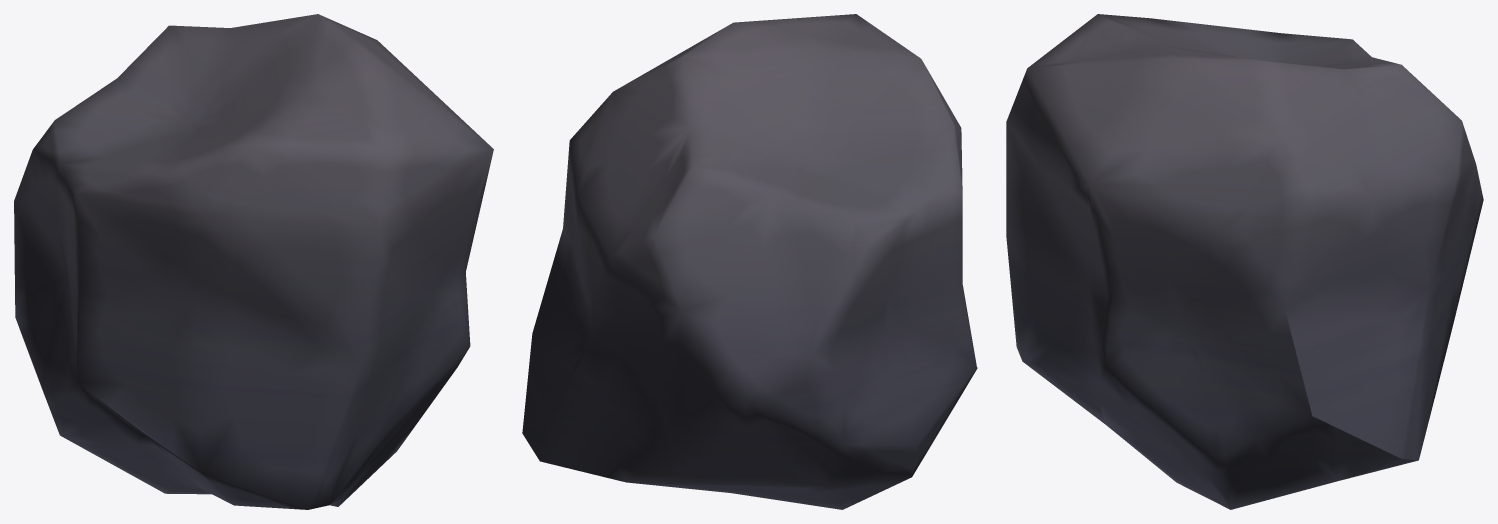
File: SM_Hill_Rock_08.fbx
3 views of the same model, side by side, from view 1: azimuth 30°, elevation 25°; view 2: azimuth 150°, elevation 25°; view 3: azimuth 270°, elevation 25° (orthographic). The views are drawn at different scales.
Parts seen in each view (by area): view 1: Stone2.001; view 2: Stone2.001; view 3: Stone2.001.
Part boxes in pixels (x1,y1,x2,y2): Stone2.001: (14, 14, 493, 509); Stone2.001: (522, 14, 977, 509); Stone2.001: (1006, 14, 1483, 509).
Bounding box in the file's own units: 696 × 739 × 735.
1 material, 1 textured.
